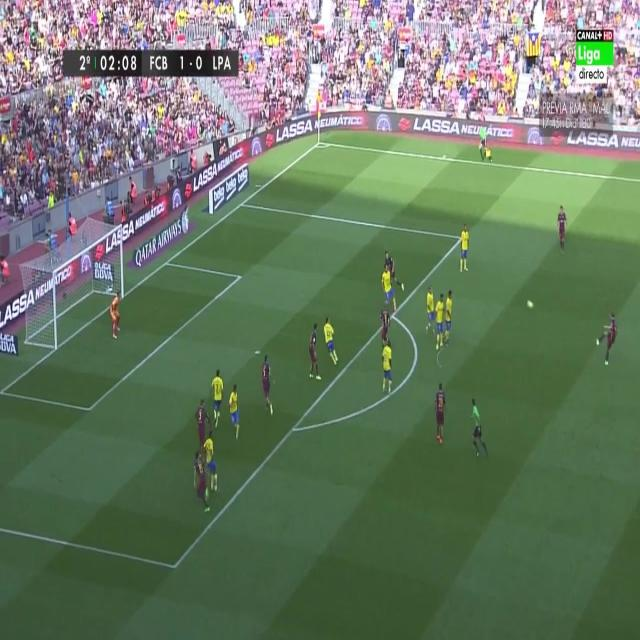Ball: (526, 297, 533, 311)
Goalkeeper: (107, 288, 125, 344)
Player: (594, 307, 621, 369), (431, 378, 450, 453), (259, 351, 277, 420), (306, 321, 324, 383), (322, 314, 342, 369), (227, 378, 243, 444), (379, 264, 399, 316), (210, 367, 225, 431), (380, 339, 396, 399), (458, 221, 472, 282), (384, 250, 405, 290), (555, 203, 570, 254), (434, 292, 446, 354), (195, 399, 210, 442), (424, 285, 436, 335), (445, 286, 454, 344), (381, 306, 393, 348)
Referee: (468, 396, 490, 457), (476, 124, 488, 163)
